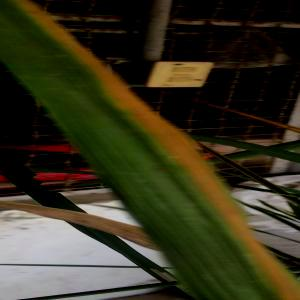2 BacterialBlight: (117, 151, 252, 299)
